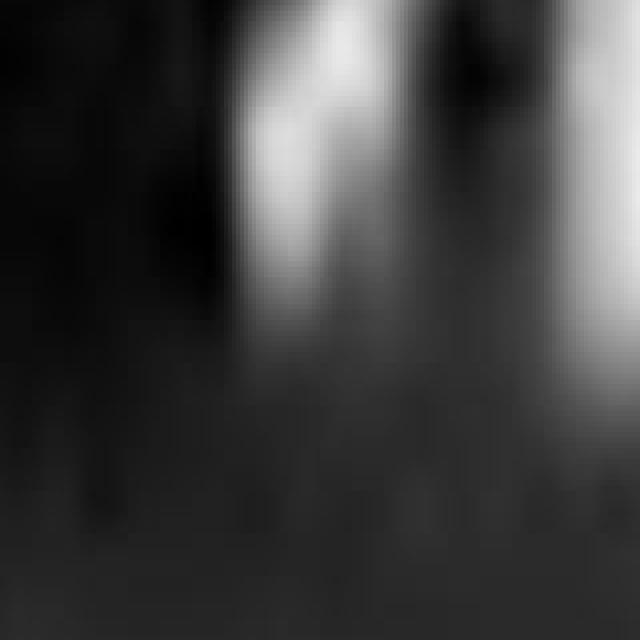person: (221, 1, 437, 358), (529, 1, 640, 390)
